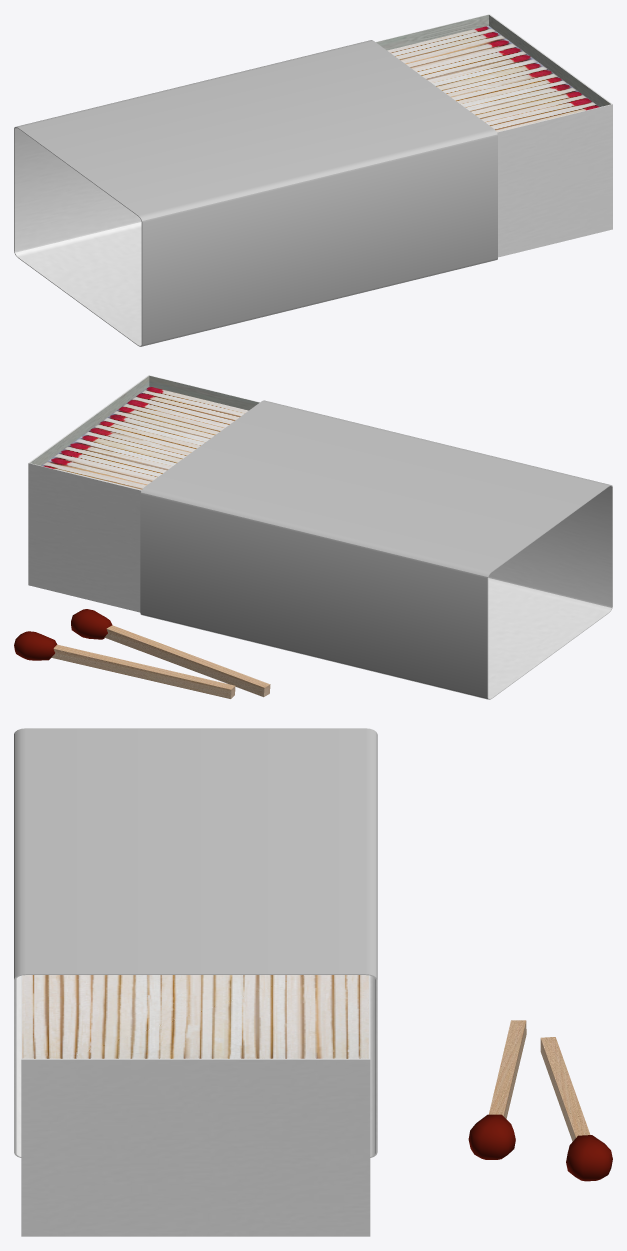
File: boite_d_allumettes_003.fbx
The picture shows the model from 3 angles, top to bottom: view 1: azimuth 30°, elevation 25°; view 2: azimuth 150°, elevation 25°; view 3: azimuth 270°, elevation 25°; orthographic projection. The views are drawn at different scales.
Visible parts, largest first — view 1: outer.001, inner.001, Plane; view 2: outer.001, inner.001, Plane, stick.025, stick.027; view 3: outer.001, inner.001, Plane, stick.025, stick.027.
Part boxes in pixels (x1=…): outer.001: x1=14, y1=40, x2=497, y2=346; inner.001: x1=376, y1=14, x2=612, y2=257; Plane: x1=387, y1=25, x2=599, y2=131; outer.001: x1=140, y1=400, x2=612, y2=699; inner.001: x1=28, y1=375, x2=259, y2=612; Plane: x1=41, y1=386, x2=248, y2=490; stick.025: x1=14, y1=631, x2=235, y2=698; stick.027: x1=71, y1=609, x2=270, y2=697; outer.001: x1=14, y1=728, x2=377, y2=1157; inner.001: x1=21, y1=975, x2=370, y2=1236; Plane: x1=22, y1=975, x2=368, y2=1058; stick.025: x1=540, y1=1037, x2=612, y2=1181; stick.027: x1=468, y1=1020, x2=526, y2=1159.
Size of the model in its own units: 10.64 by 2.8 by 8.24.
